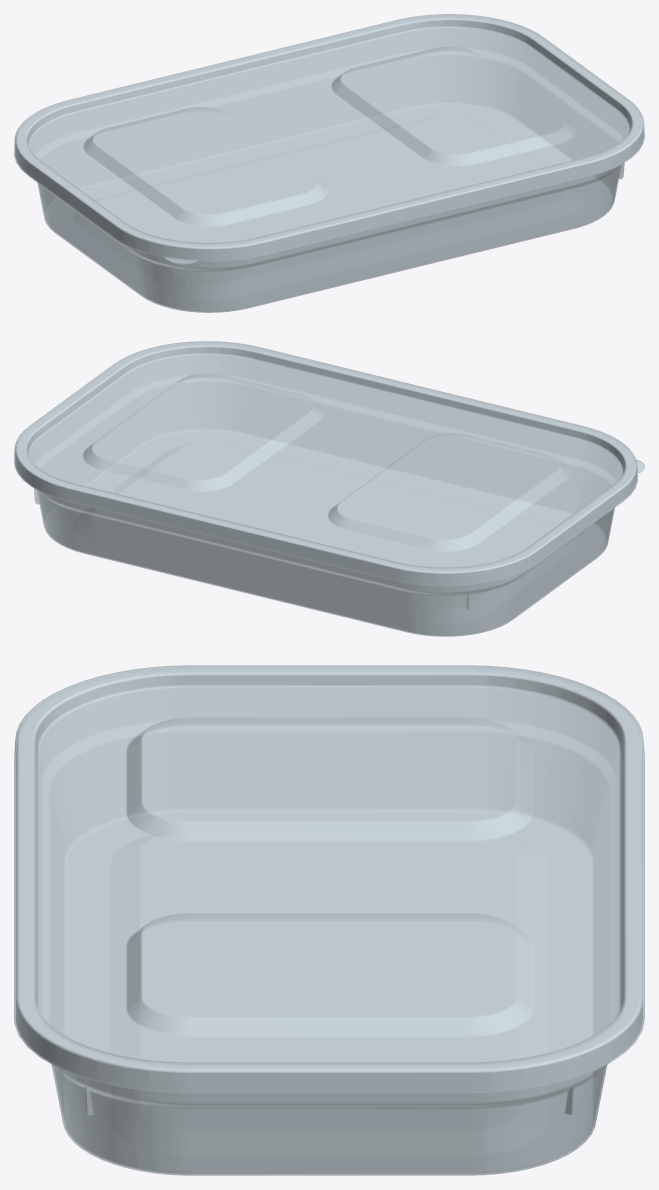
Rendered from tupperlink-2500ml.glb.
3 views of the same model, one above another, from view 1: azimuth 30°, elevation 25°; view 2: azimuth 150°, elevation 25°; view 3: azimuth 270°, elevation 25° (orthographic). The views are drawn at different scales.
Parts seen in each view (by area): view 1: base, tampa; view 2: base, tampa; view 3: base, tampa.
Boxes of the visible parts, box(x1,y1,x2,y2) form: base: box(15, 15, 643, 312); tampa: box(14, 14, 644, 264); base: box(15, 343, 636, 636); tampa: box(14, 341, 644, 586); base: box(16, 668, 642, 1175); tampa: box(14, 665, 644, 1093).
Bounding box in the file's own units: 0.3479 × 0.0507 × 0.2279.
